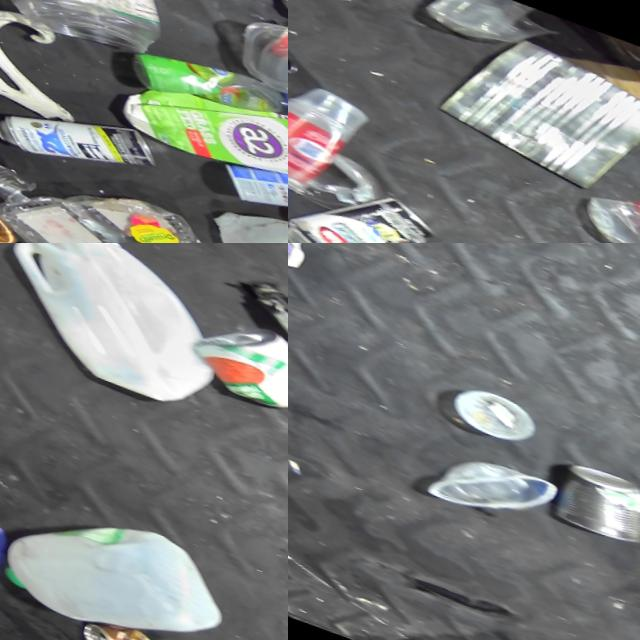can: (420, 0, 640, 205), (0, 78, 156, 190), (186, 303, 288, 421), (63, 604, 189, 640), (0, 134, 30, 195)
milk_jug: (0, 243, 235, 415), (0, 474, 236, 640), (190, 179, 288, 243), (0, 243, 30, 409), (118, 231, 288, 243)
non_white_jug: (113, 52, 288, 202)
